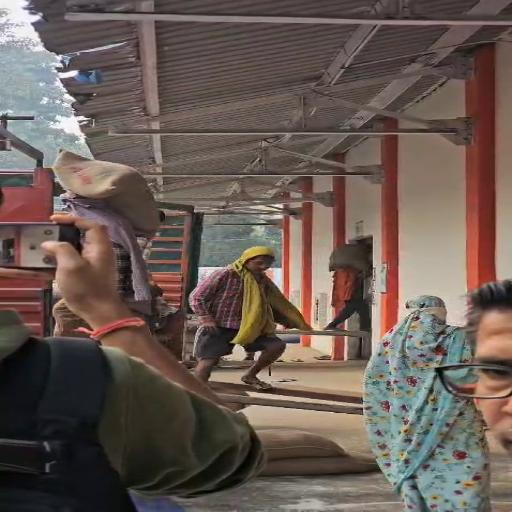bag: (45, 149, 164, 238)
